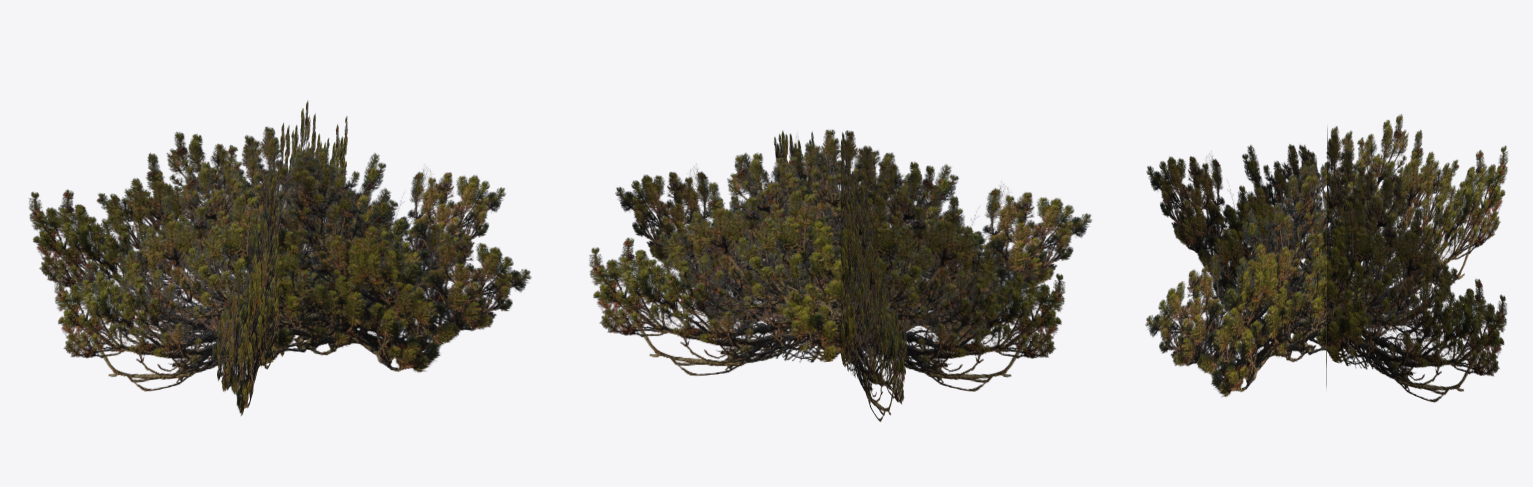
The model's file is bush.glb.
3 views of the same model, side by side, from view 1: azimuth 30°, elevation 25°; view 2: azimuth 150°, elevation 25°; view 3: azimuth 270°, elevation 25° (orthographic).
Visible parts, largest first — view 1: bush.001; view 2: bush.001; view 3: bush.001.
Part boxes in pixels (x1=…): bush.001: x1=29, y1=100, x2=531, y2=415; bush.001: x1=589, y1=129, x2=1091, y2=421; bush.001: x1=1145, y1=114, x2=1508, y2=402.
Size of the model in its own units: 0.5141 by 0.241 by 0.3645.
Materials: 1 (1 with a texture image).
